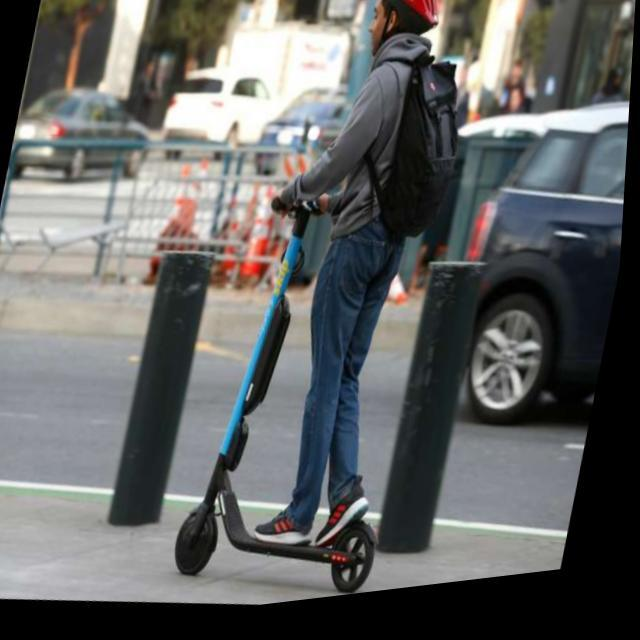Helmet: (369, 0, 450, 65)
